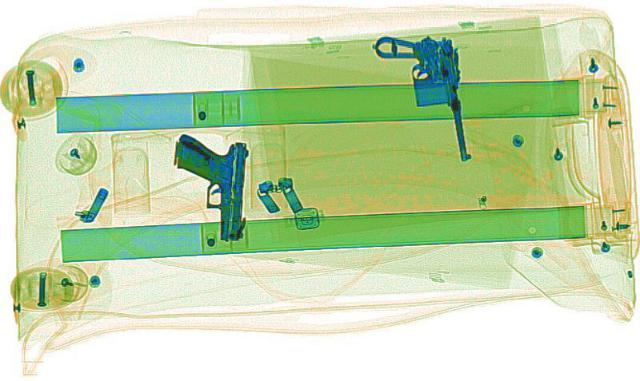Gun: (368, 30, 480, 164), (170, 132, 248, 239)
